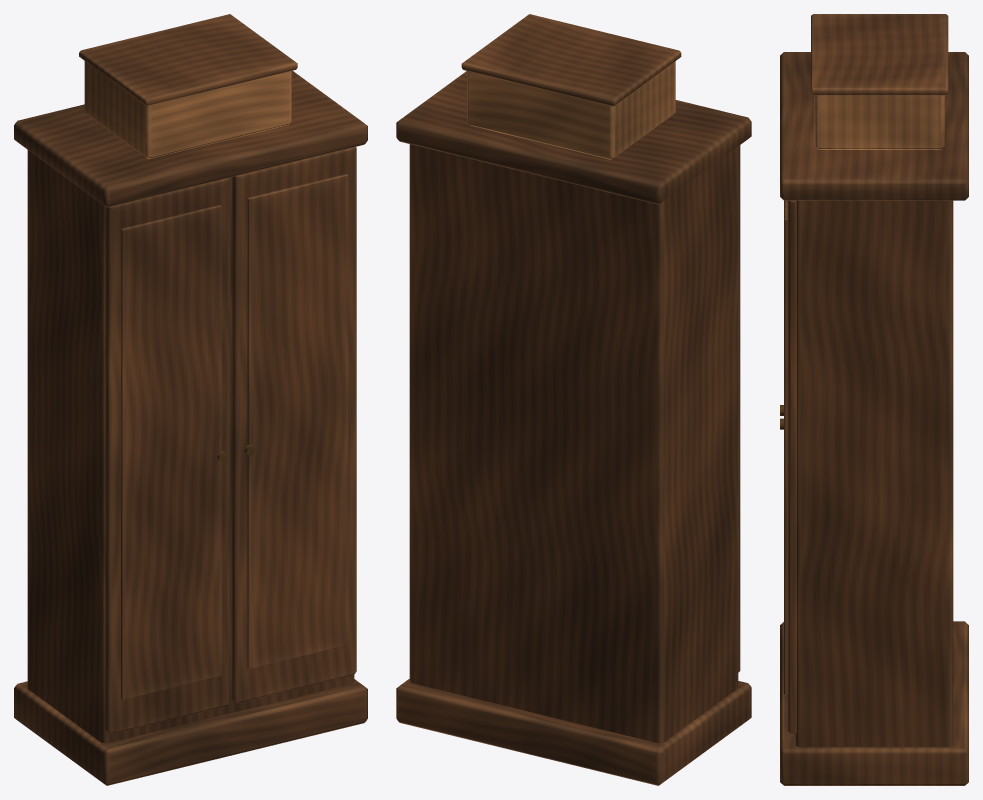
File: Furn_Wardrobe_Tower.fbx
3 views of the same model, side by side, from view 1: azimuth 30°, elevation 25°; view 2: azimuth 150°, elevation 25°; view 3: azimuth 270°, elevation 25° (orthographic).
Parts seen in each view (by area): view 1: Furn_Wardrobe_Tower; view 2: Furn_Wardrobe_Tower; view 3: Furn_Wardrobe_Tower.
Part boxes in pixels (x1,y1,x2,y2): Furn_Wardrobe_Tower: (14,14,367,785); Furn_Wardrobe_Tower: (396,14,751,785); Furn_Wardrobe_Tower: (780,14,968,785).
Bounding box in the file's own units: 0.9 × 2.16 × 0.55.
3 materials, 3 textured.
